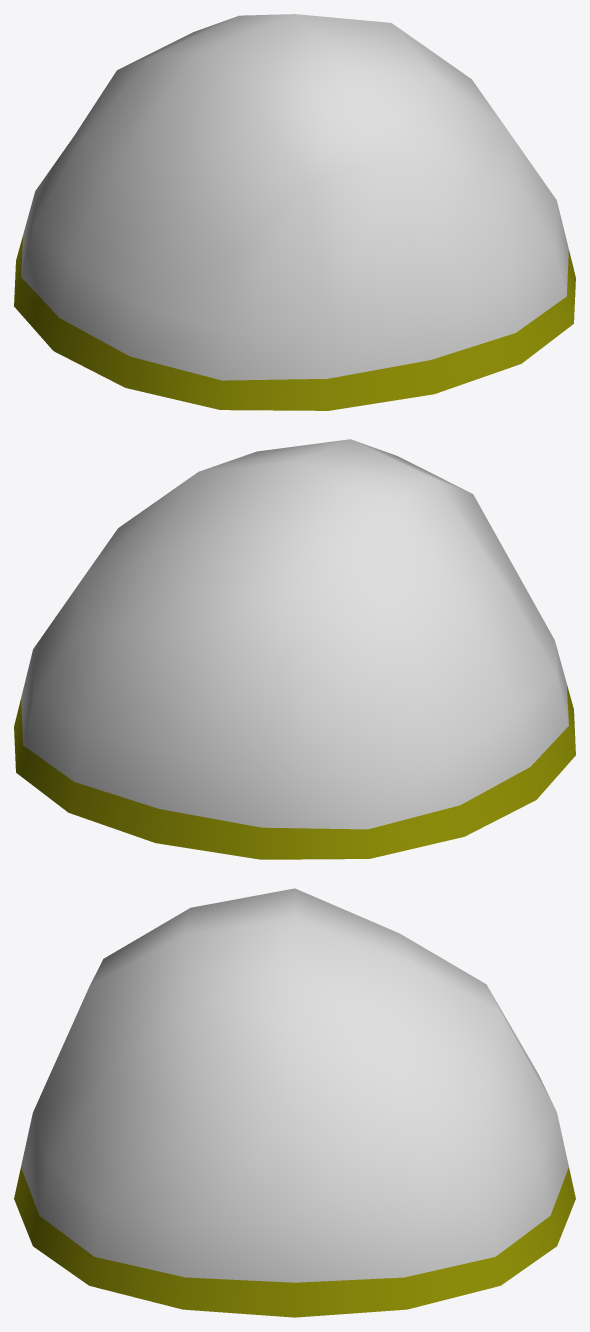
File: SnowyHayPile.fbx
3 views of the same model, one above another, from view 1: azimuth 30°, elevation 25°; view 2: azimuth 150°, elevation 25°; view 3: azimuth 270°, elevation 25° (orthographic).
Visible parts, largest first — view 1: pCube170; view 2: pCube170; view 3: pCube170.
Part boxes in pixels (box(x1,y1,x2,y2)): pCube170: box(14, 14, 575, 410); pCube170: box(14, 439, 575, 859); pCube170: box(14, 888, 575, 1317).
Size of the model in its own units: 7.81 by 4.3 by 7.81.
